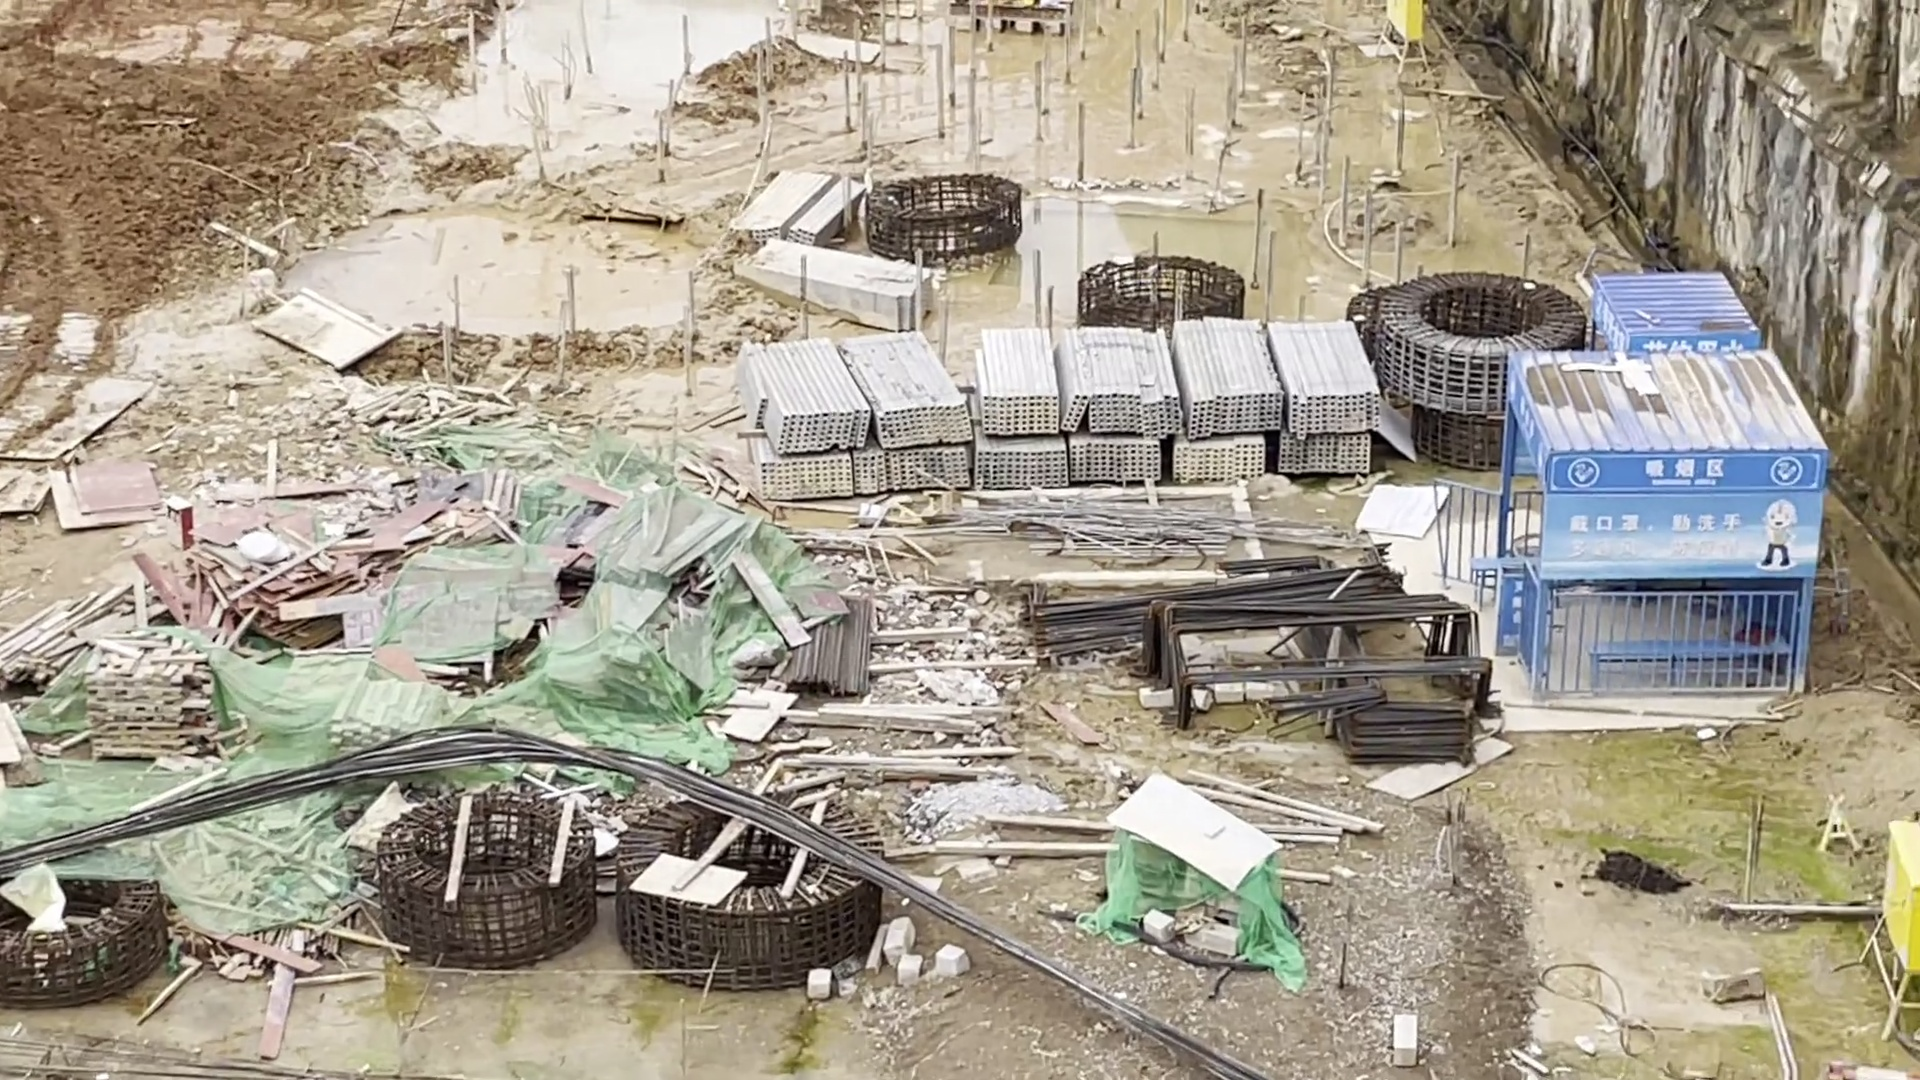ebox: (1837, 800, 1919, 1054)
slogan: (1563, 502, 1771, 568)
